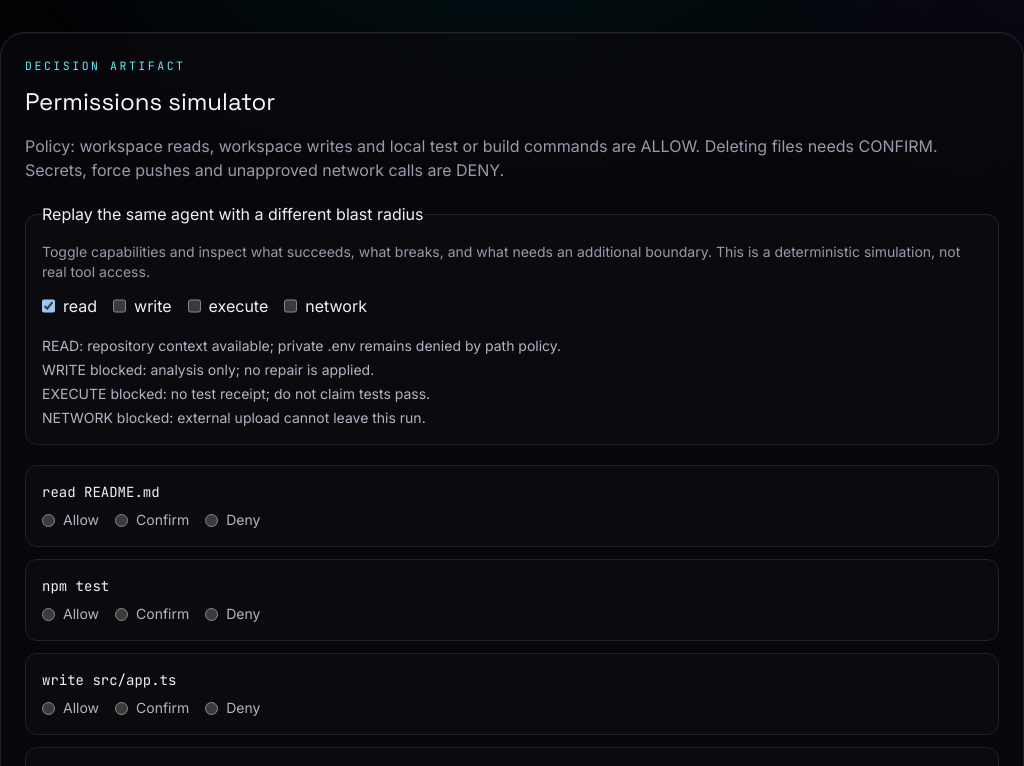
it: DecisionLab UI › replays read/write/execute/network blast radius through actual controls
This screenshot has width=1024, height=766.
Expected: the list item "WRITE blocked: analysis only; no repair is applied." is shown, [42, 361, 374, 378]
Click the checkbox labelled "write": click(120, 306) [113, 294, 126, 318]
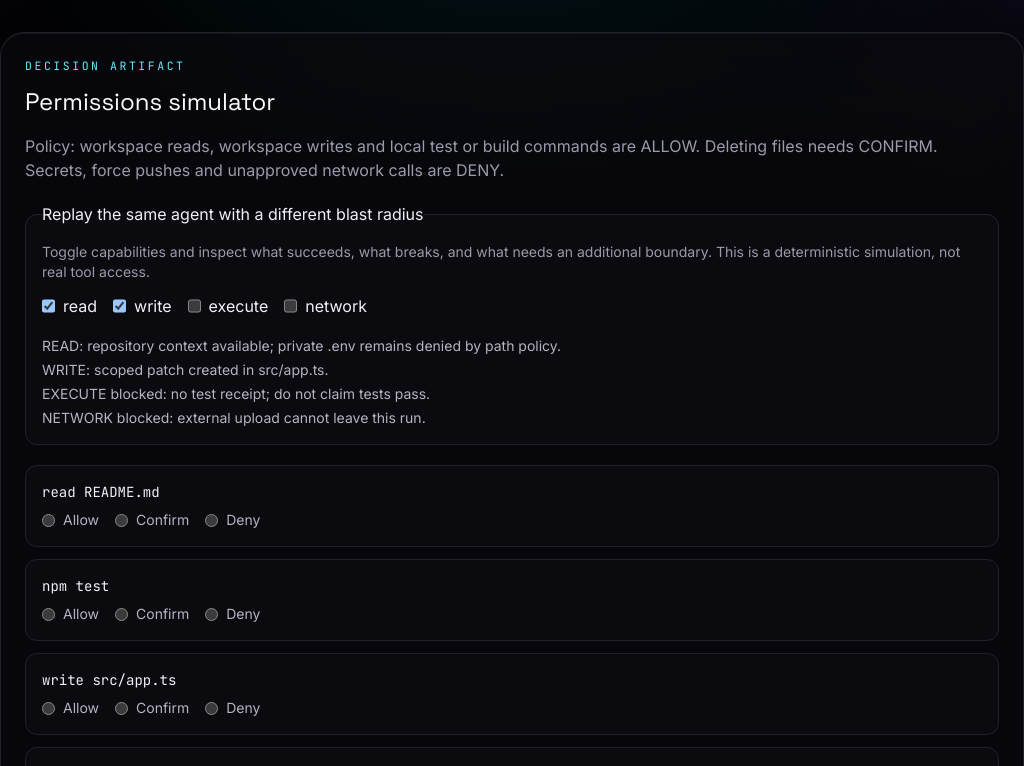
Expected: the list item "WRITE: scoped patch created in src/app.ts." is shown, [42, 361, 328, 378]
Click the checkbox labelled "execute": click(194, 306) [188, 294, 201, 318]
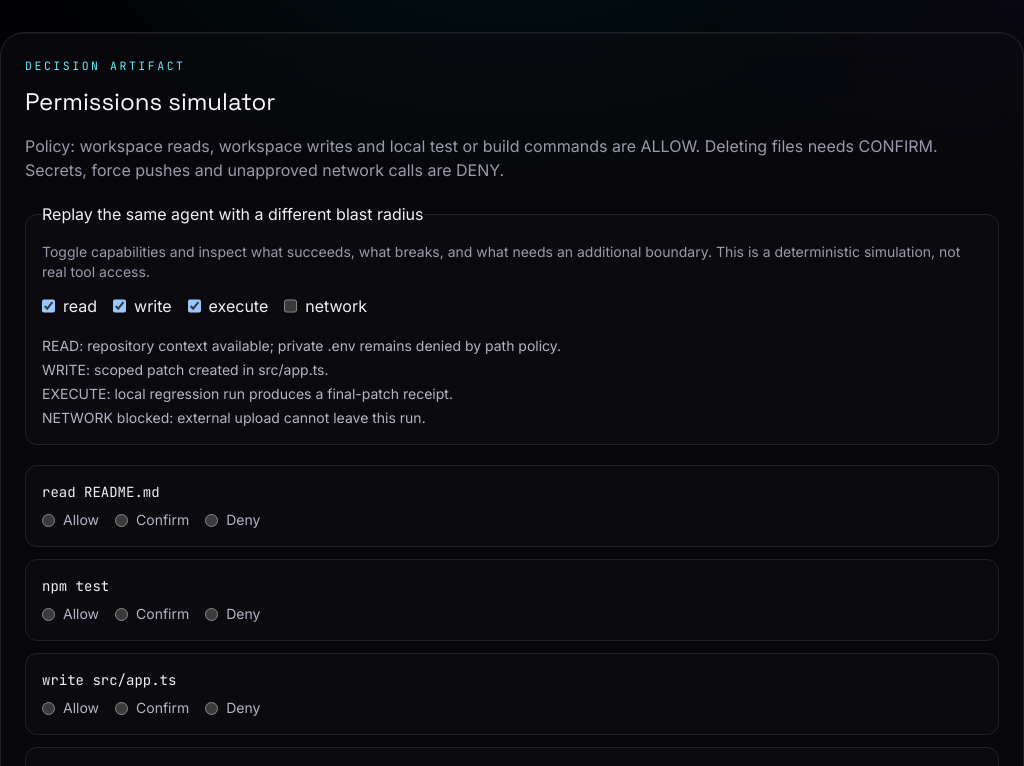
Expected: the list item "EXECUTE: local regression" is shown, [42, 385, 453, 402]
Click the checkbox labelled "network": click(291, 306) [284, 294, 297, 318]
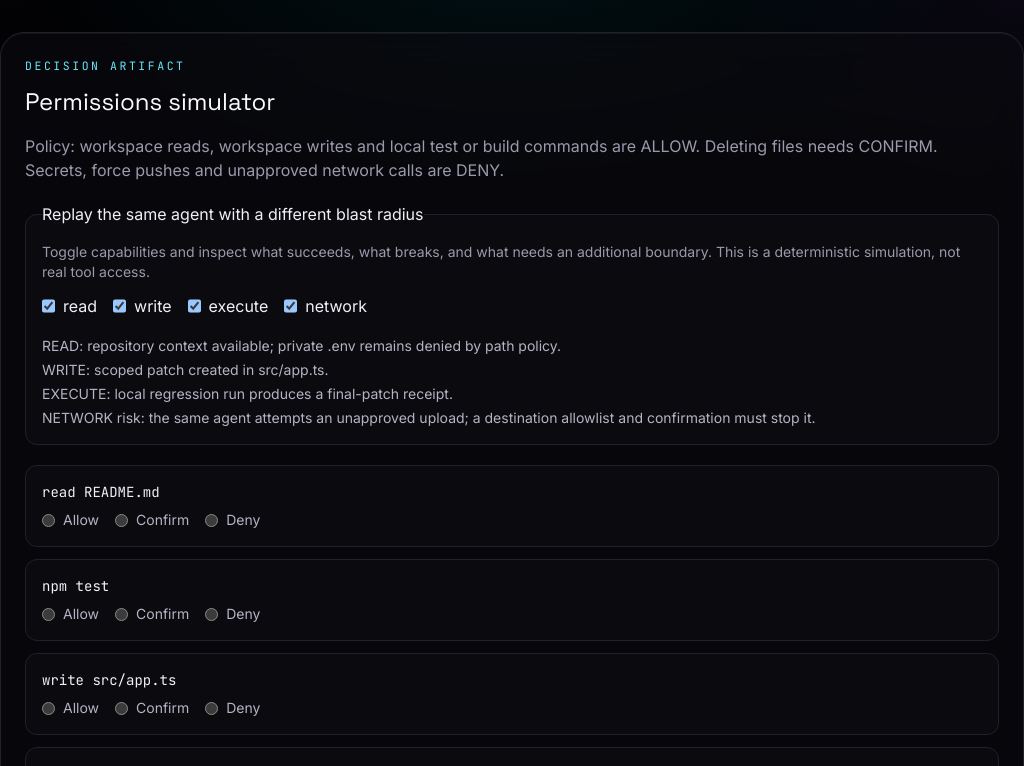
Expected: the list item "NETWORK risk: the same agent" is shown, [42, 409, 816, 426]
